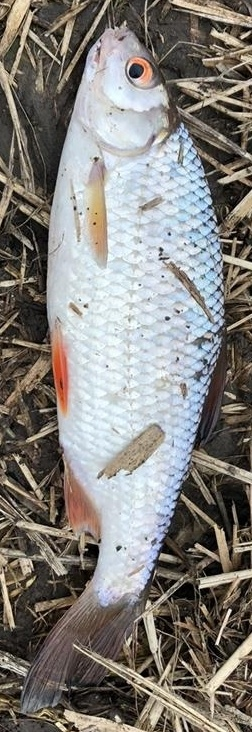Rutilus rutilus: (20, 20, 232, 712)
